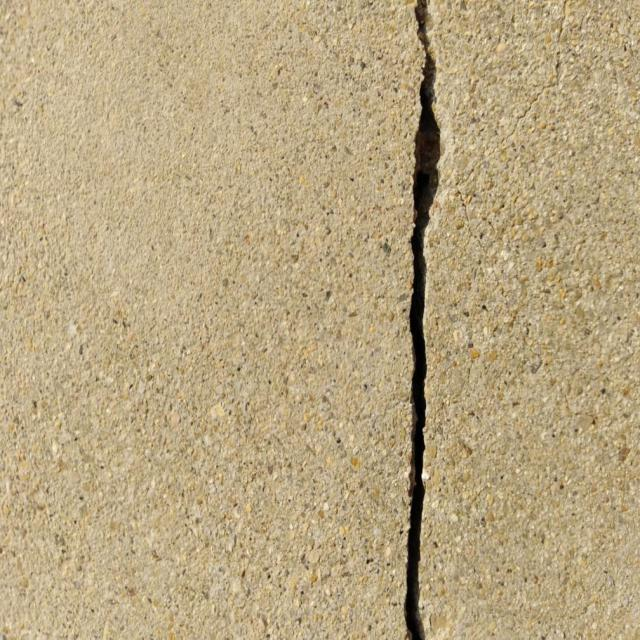vertical crack: (401, 0, 446, 639)
